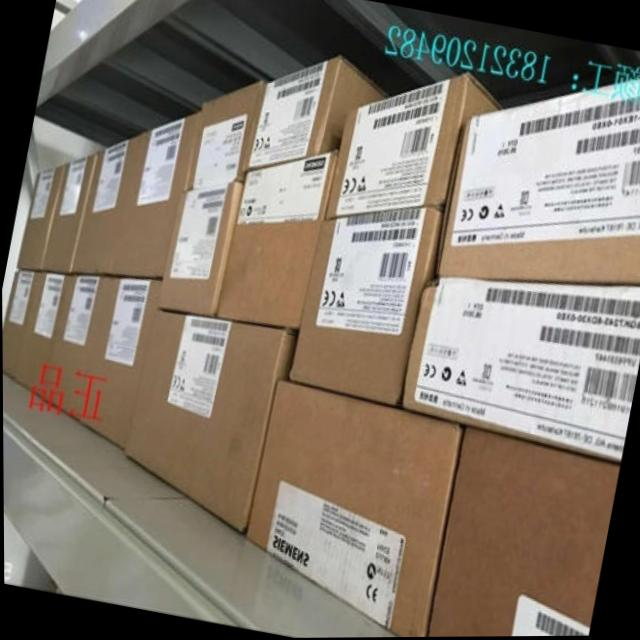box: (244, 378, 462, 638), (402, 278, 640, 462), (433, 80, 640, 285), (424, 424, 619, 638), (122, 304, 294, 536), (288, 205, 445, 407), (324, 73, 502, 218), (214, 155, 336, 329), (244, 57, 389, 169), (111, 110, 200, 280), (75, 272, 158, 449), (155, 182, 243, 314), (69, 136, 142, 271), (38, 273, 105, 419), (183, 76, 265, 190), (39, 150, 98, 272), (11, 270, 67, 393), (18, 163, 63, 269), (2, 270, 36, 380)
